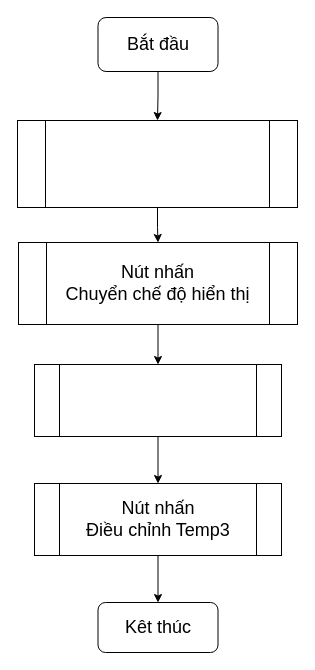
This 315x670 diagram has some shape labels left out. Each missing label, with the centre of its shape:
"Nút nhấn Điều chỉnh Temp2" belongs at (x=158, y=400).
"Nút nhấn Điều khiển Quạt thủ công" belongs at (x=157, y=164).
